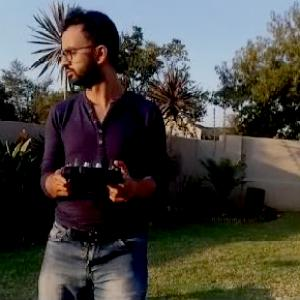follow: (32, 0, 171, 299)
